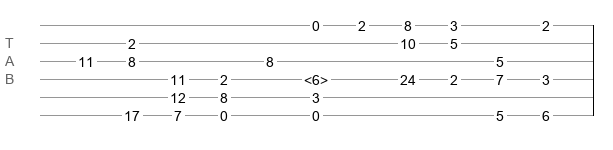0: (220, 108, 228, 118), (312, 108, 320, 118), (312, 18, 320, 28)
10: (400, 36, 416, 46)
11: (78, 54, 94, 64), (170, 72, 186, 82)
12: (170, 90, 186, 100)
17: (124, 108, 140, 118)
2: (128, 36, 136, 46), (220, 72, 228, 82), (358, 18, 366, 28), (450, 72, 458, 82), (542, 18, 550, 28)
24: (400, 72, 416, 82)
3: (312, 90, 320, 100), (450, 18, 458, 28), (542, 72, 550, 82)
5: (450, 36, 458, 46), (496, 108, 504, 118), (496, 54, 504, 64)
6: (542, 108, 550, 118)
7: (174, 108, 182, 118), (496, 72, 504, 82)
8: (128, 54, 136, 64), (220, 90, 228, 100), (266, 54, 274, 64), (404, 18, 412, 28)
harmonic: (304, 72, 328, 82)
